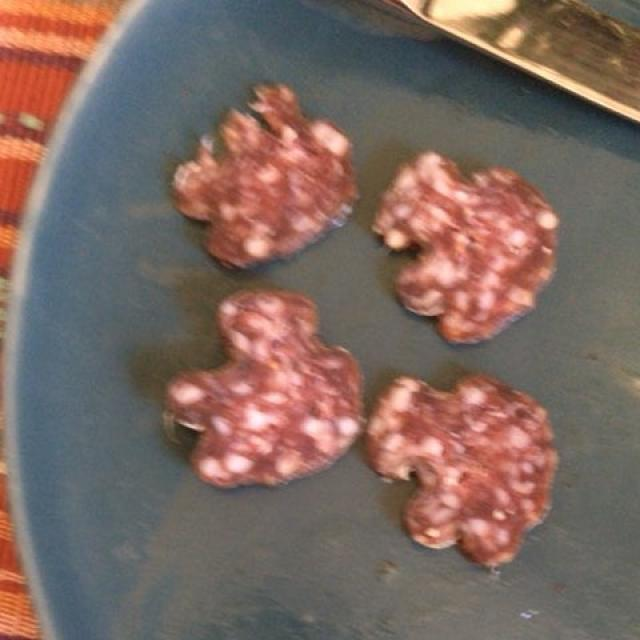cooked-sausage: (170, 76, 549, 566)
